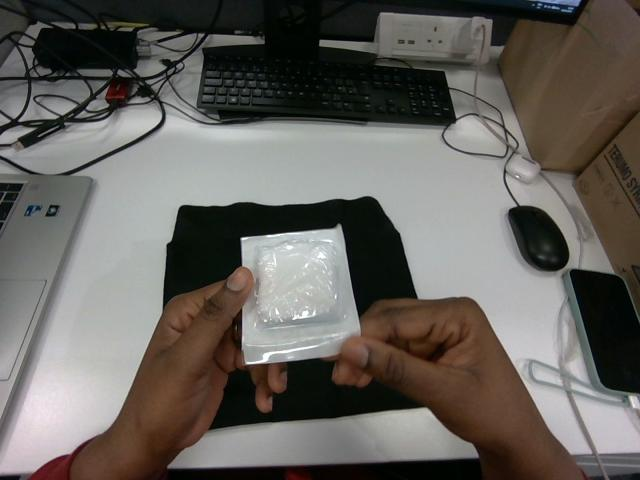gauze: (241, 225, 359, 364)
